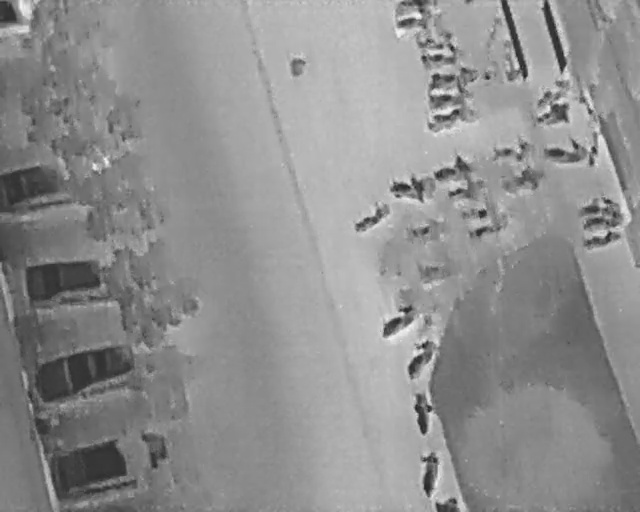Bicycle: (398, 332, 441, 386), (530, 94, 579, 138), (372, 299, 422, 341), (347, 195, 396, 237), (528, 72, 576, 113), (422, 103, 478, 137), (497, 161, 547, 199), (385, 169, 437, 204), (488, 133, 538, 168), (429, 151, 475, 188), (443, 172, 490, 205), (426, 63, 481, 90), (427, 84, 475, 111), (542, 137, 589, 164), (418, 43, 464, 70), (410, 389, 435, 437), (578, 193, 623, 219), (412, 27, 456, 52), (391, 10, 435, 35), (581, 209, 624, 232), (458, 199, 494, 226), (420, 449, 439, 500), (469, 218, 508, 240), (581, 229, 620, 250), (406, 219, 439, 242), (434, 488, 459, 510), (397, 0, 438, 13)
Car: (41, 424, 182, 503), (31, 335, 151, 409), (19, 248, 125, 311), (0, 160, 86, 213), (0, 0, 38, 37)
